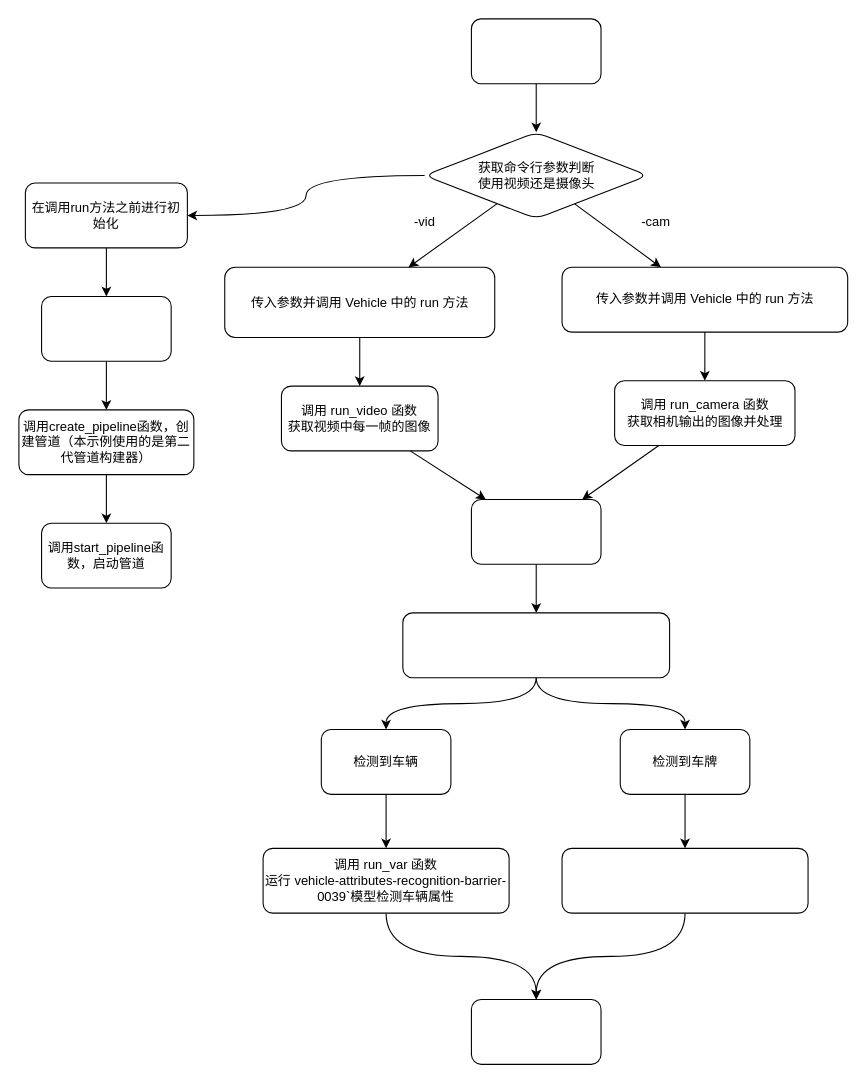
This 867x1083 diagram has some shape labels left out. The shapes that lost their labels are listed below. From the top down, each one's centre as x and y in pixels, then its label:
At point 535,51: "main.py".
At point 105,328: "将传进来的参数赋给对应变量".
At point 535,531: "调用 parse 函数".
At point 536,645: "调用 run_vlpd 函数 运行 vehicle-license-plate-detection-barrier-0106 模型检测（正面）车辆和（中文）车牌".
At point 684,880: "调用 run_lpr 函数 运行 license-plate-recognition-barrier-0007 模型识别车牌".
At point 535,1031: "展示结果".
